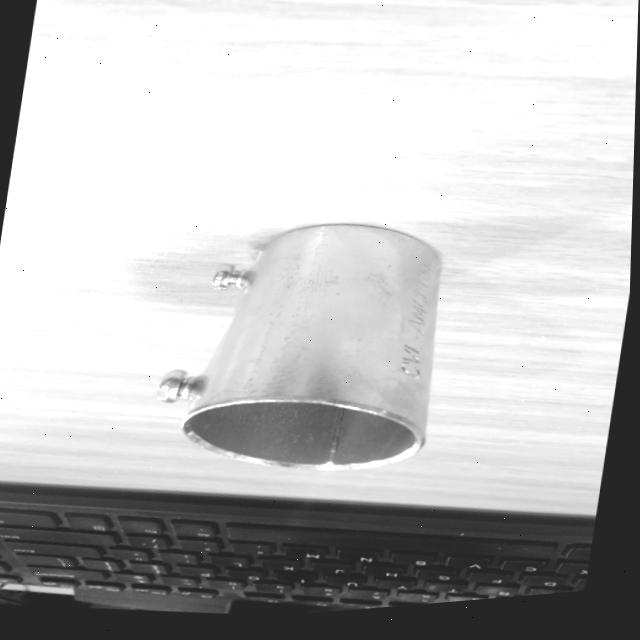Co_Nho: (153, 208, 444, 478)
